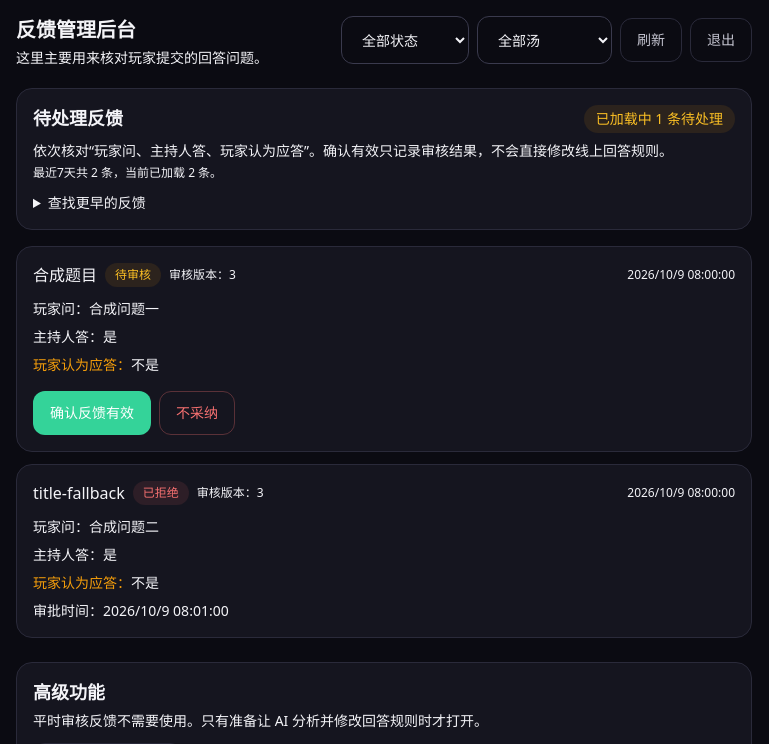
it: soup and status filters combine locally, including title fallback and a genuinely empty match
The image size is (769, 744).
Expected: the text "合成问题二" is shown, [89, 517, 159, 536]
Select "title-fallback" in the dropdown named "全部汤": (544, 40) [477, 16, 612, 64]
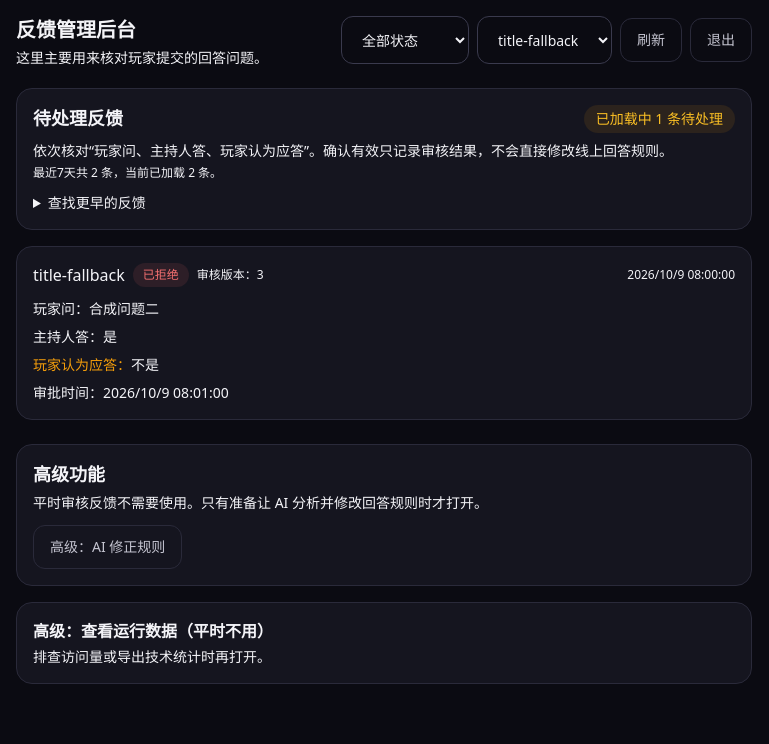
Expected: the text "合成问题二" is shown, [89, 299, 159, 318]
Now the text "合成问题一" is gone
Select "待审核" in the dropdown named "全部状态": (405, 40) [341, 16, 469, 64]
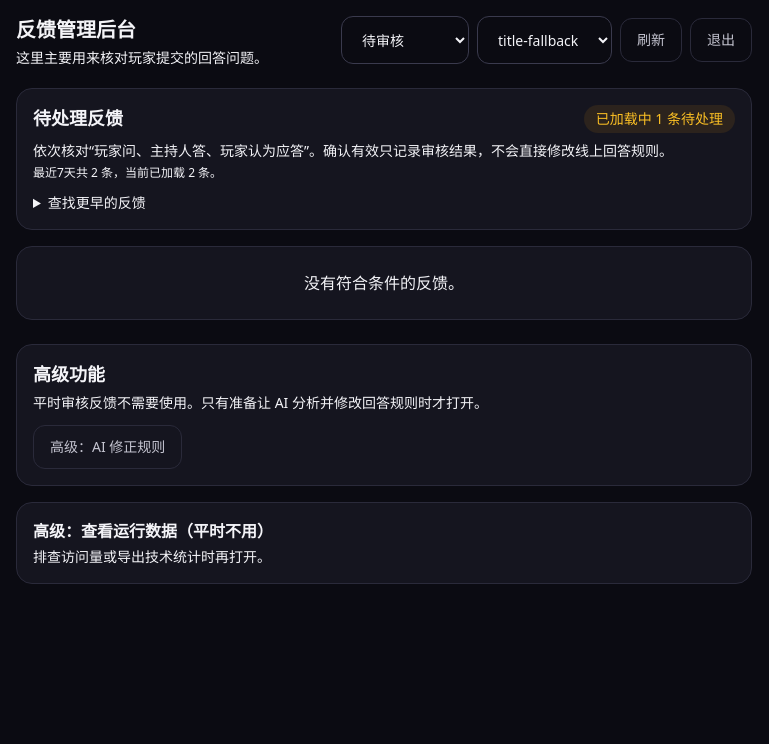
Now the text "没有符合条件的反馈。" is shown, box [16, 246, 752, 320]
Select "全部汤" in the dropdown named "全部汤": (544, 40) [477, 16, 612, 64]
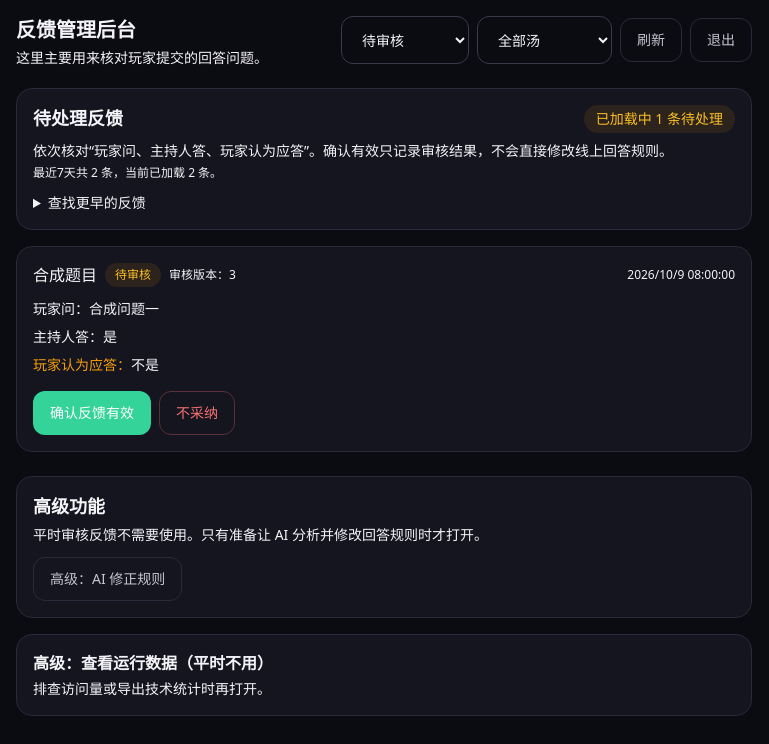
Now the text "合成问题一" is shown, box [89, 299, 159, 318]
Select "已拒绝" in the dropdown named "全部状态": (405, 40) [341, 16, 469, 64]
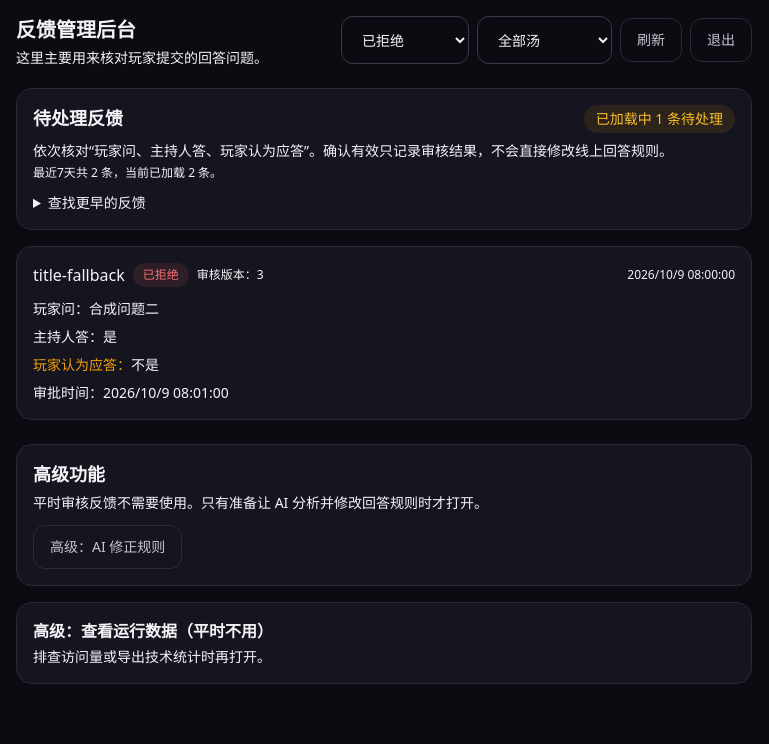
Now the text "合成问题二" is shown, box [89, 299, 159, 318]
